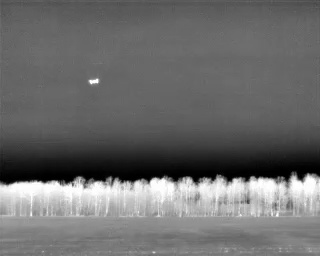DRONE: (85, 74, 104, 90)
